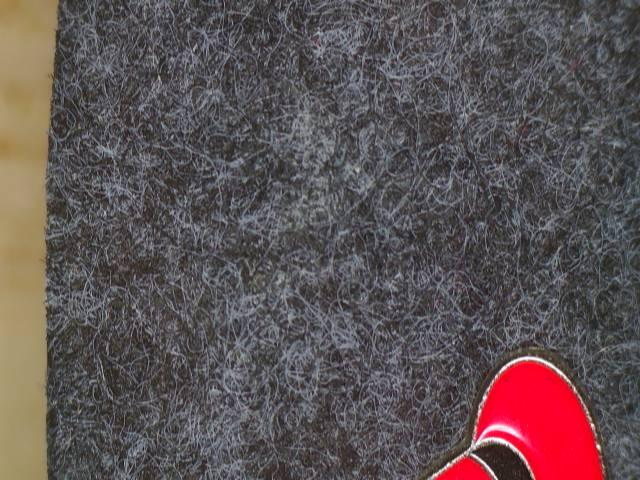Red-Hat: (380, 322, 640, 480)
